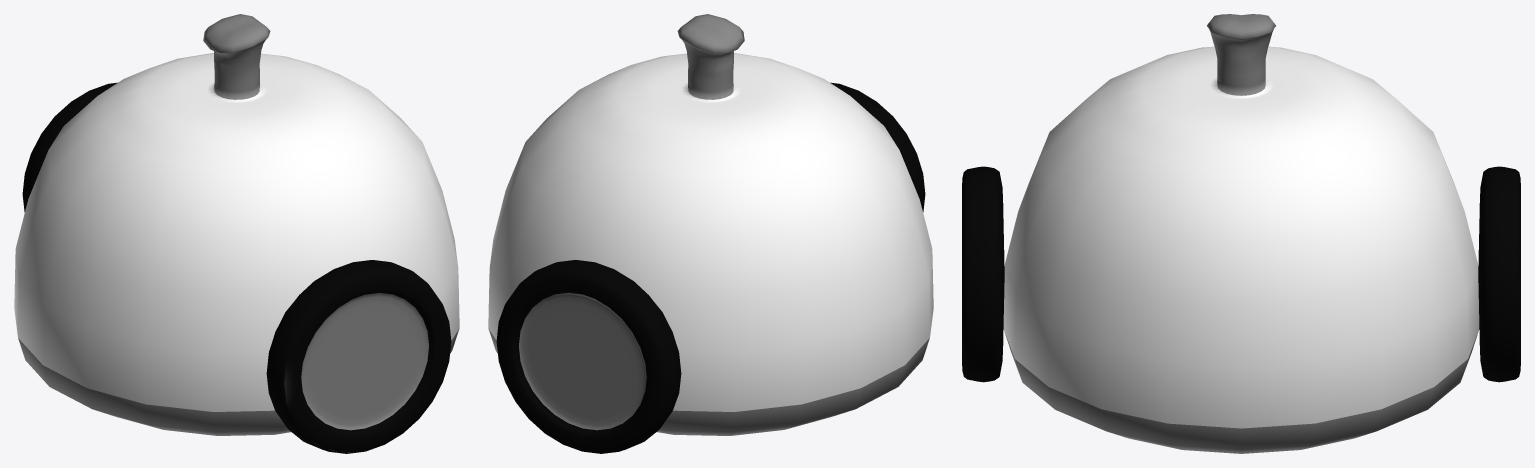
The model's file is govde.fbx.
3 views of the same model, side by side, from view 1: azimuth 30°, elevation 25°; view 2: azimuth 150°, elevation 25°; view 3: azimuth 270°, elevation 25° (orthographic). The views are drawn at different scales.
Visible parts, largest first — view 1: Cube.001; view 2: Cube.001; view 3: Cube.001.
Part boxes in pixels (x1=…): Cube.001: x1=14, y1=14, x2=459, y2=453; Cube.001: x1=488, y1=14, x2=933, y2=453; Cube.001: x1=962, y1=14, x2=1520, y2=453.
Bounding box in the file's own units: 440 × 516 × 363.
